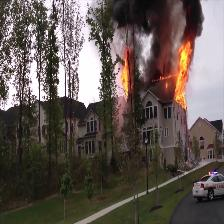fire: (173, 47, 196, 108), (120, 60, 131, 95)
smoke: (108, 2, 200, 35), (149, 37, 168, 77)
